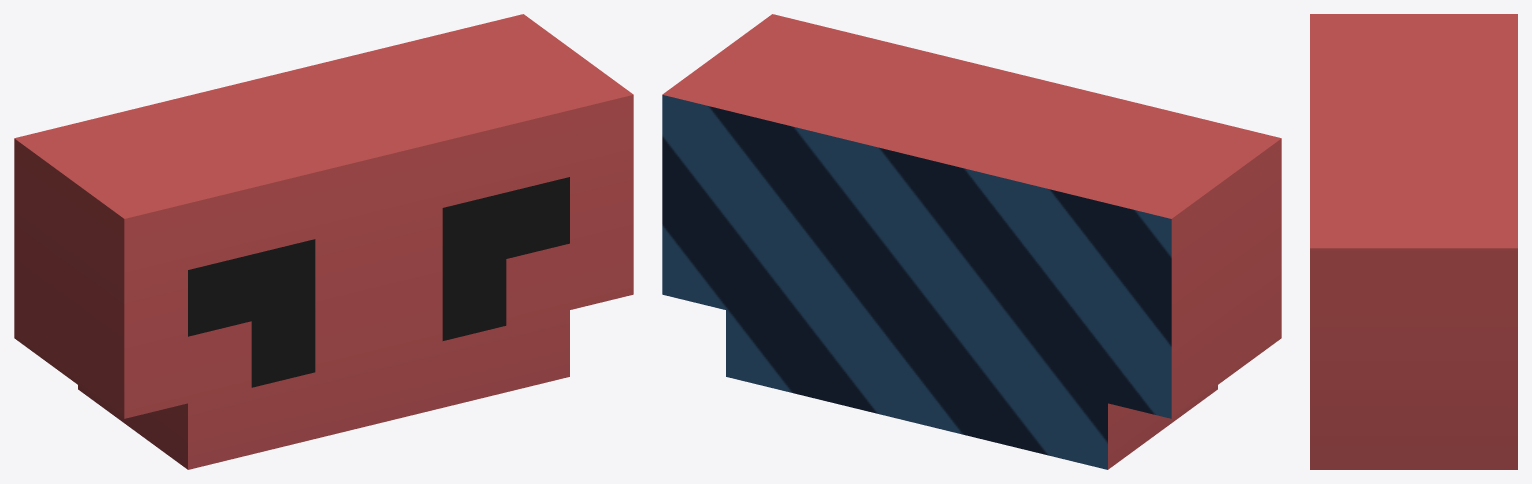
Rendered from PartA.fbx.
3 views of the same model, side by side, from view 1: azimuth 30°, elevation 25°; view 2: azimuth 150°, elevation 25°; view 3: azimuth 270°, elevation 25° (orthographic). The views are drawn at different scales.
Parts seen in each view (by area): view 1: PartA; view 2: PartA; view 3: PartA.
Part boxes in pixels (left/top/right/bottom): PartA: left=14, top=14, right=633, bottom=469; PartA: left=662, top=14, right=1281, bottom=469; PartA: left=1310, top=14, right=1517, bottom=469.
Size of the model in its own units: 80 by 40 by 30.
